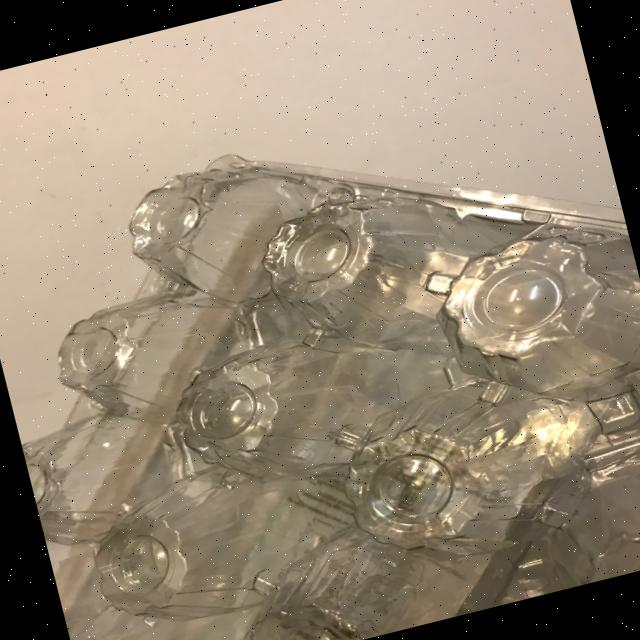plastic: (0, 64, 640, 640)
